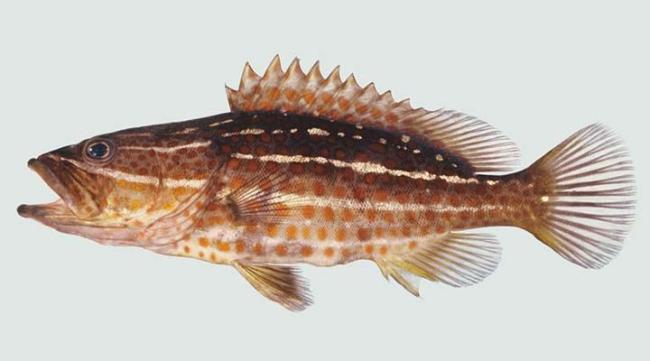fish: (20, 54, 638, 313)
